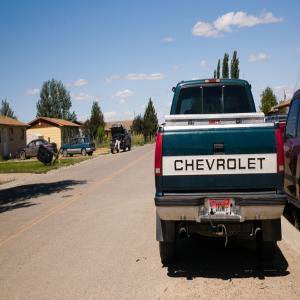Vehicle-registration-plate: (210, 200, 231, 216)
